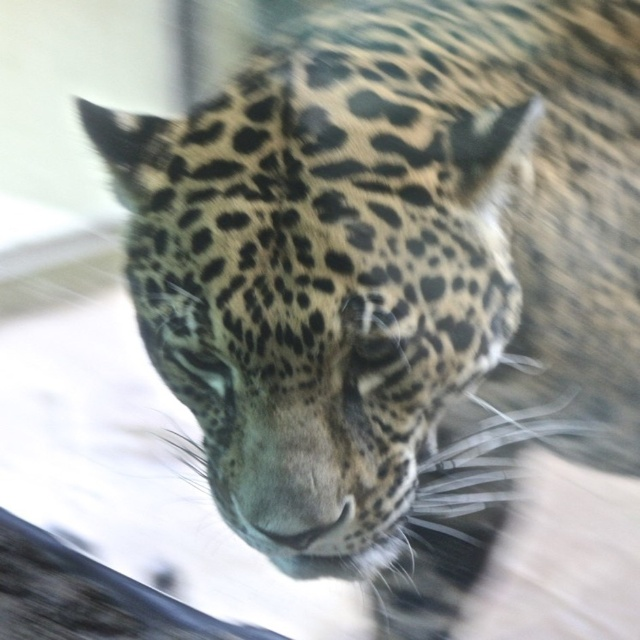Jaguar: (73, 0, 639, 639)
